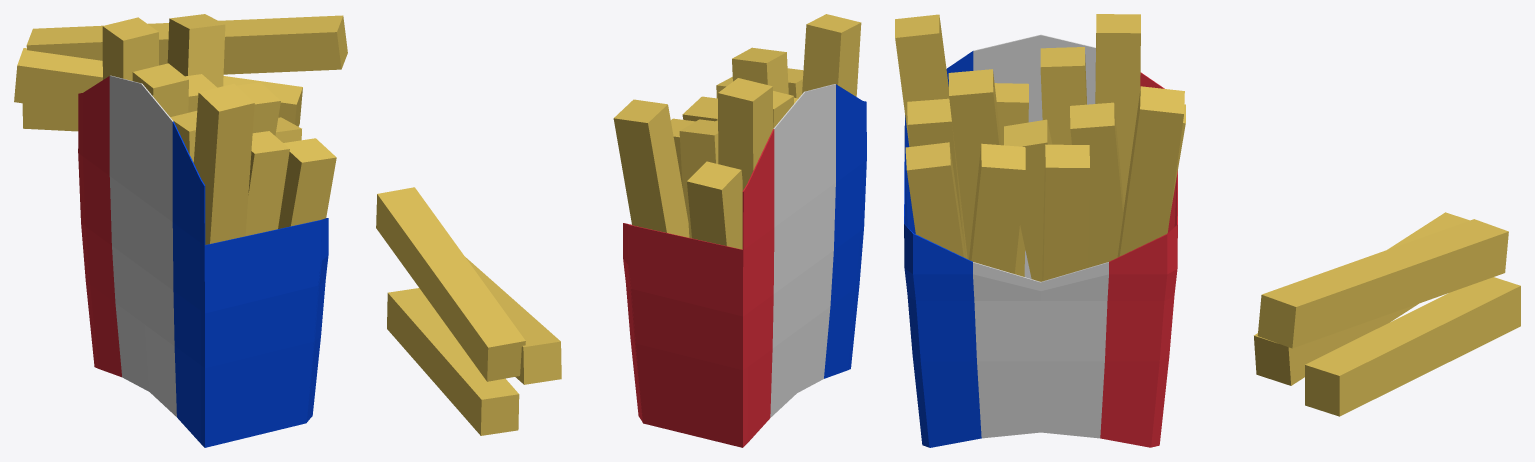
File: fries.fbx
The picture shows the model from 3 angles, left to right: view 1: azimuth 30°, elevation 25°; view 2: azimuth 150°, elevation 25°; view 3: azimuth 270°, elevation 25°; orthographic projection. The views are drawn at different scales.
Visible parts, largest first — view 1: Cube.001, Cube.014, Cube.015, Cube.013; view 2: Cube.001, Cube.014, Cube.013, Cube.015; view 3: Cube.001, Cube.014, Cube.013, Cube.015.
Part boxes in pixels (x1,y1,x2,y2): Cube.001: (78, 14, 336, 447); Cube.014: (26, 15, 347, 74); Cube.015: (14, 48, 302, 126); Cube.013: (22, 103, 78, 131); Cube.001: (613, 14, 866, 447); Cube.014: (376, 187, 525, 381); Cube.013: (387, 288, 519, 435); Cube.015: (465, 257, 561, 384); Cube.001: (895, 14, 1185, 447); Cube.014: (1257, 219, 1508, 348); Cube.013: (1305, 277, 1520, 416); Cube.015: (1254, 212, 1469, 385).
Size of the model in its own units: 296 by 306 by 460.
